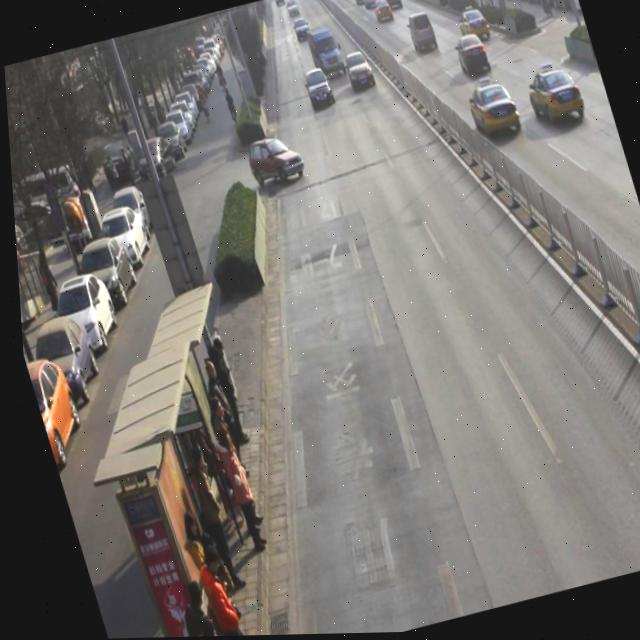car: (518, 60, 589, 138), (239, 130, 307, 194), (461, 74, 522, 145), (450, 32, 493, 82), (454, 2, 494, 51), (299, 67, 337, 114), (340, 50, 377, 97), (404, 12, 439, 58), (289, 15, 314, 46), (372, 0, 396, 28), (283, 0, 301, 21), (382, 0, 403, 12), (360, 0, 379, 10)
truck: (303, 22, 349, 86)
